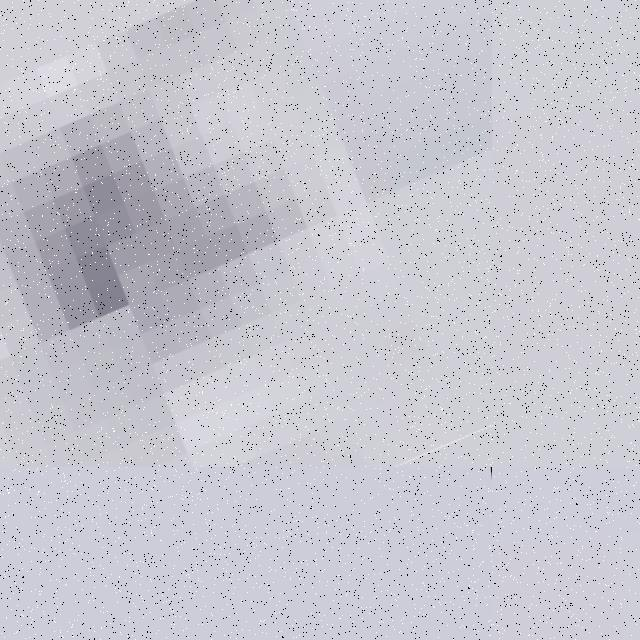drone: (0, 0, 492, 467)
